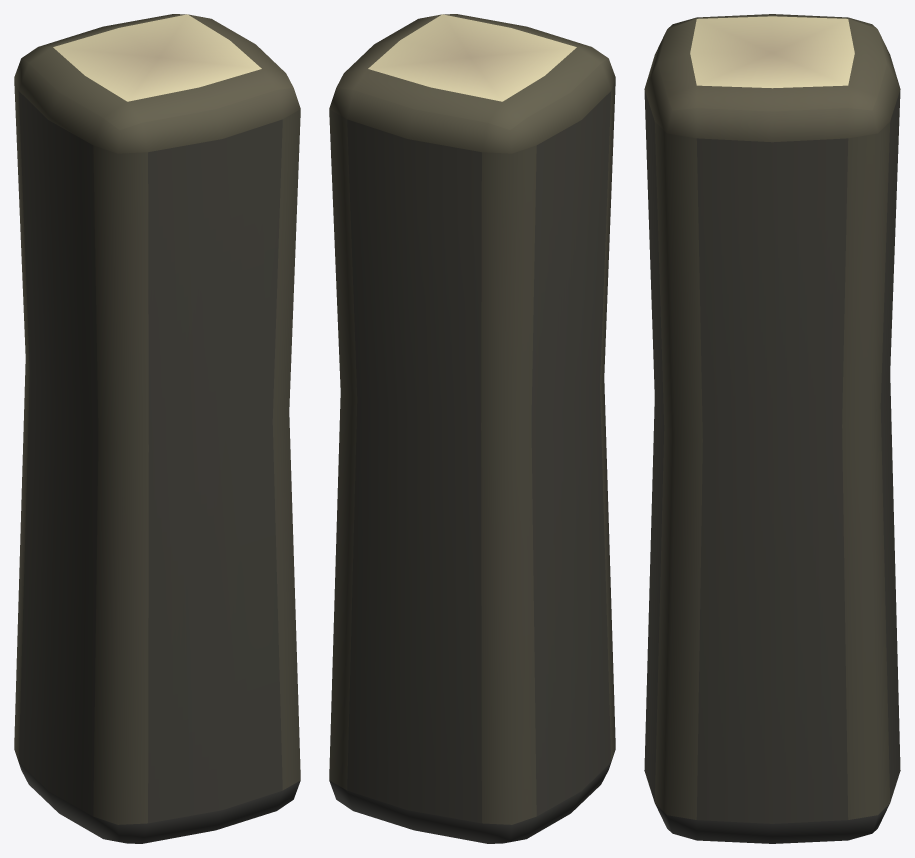
The model's file is ColdWood_Fence_Pole.fbx.
3 renders of one model, left to right at view 1: azimuth 30°, elevation 25°; view 2: azimuth 150°, elevation 25°; view 3: azimuth 270°, elevation 25°, orthographic.
Parts seen in each view (by area): view 1: ColdWood_Fence_Pole_LOD0; view 2: ColdWood_Fence_Pole_LOD0; view 3: ColdWood_Fence_Pole_LOD0.
Part boxes in pixels (bbox=[...]): ColdWood_Fence_Pole_LOD0: bbox=[14, 14, 300, 843]; ColdWood_Fence_Pole_LOD0: bbox=[329, 14, 615, 843]; ColdWood_Fence_Pole_LOD0: bbox=[644, 14, 900, 843].
Size of what is drawn, in the model's own units: 0.3233 by 1.05 by 0.3234.
